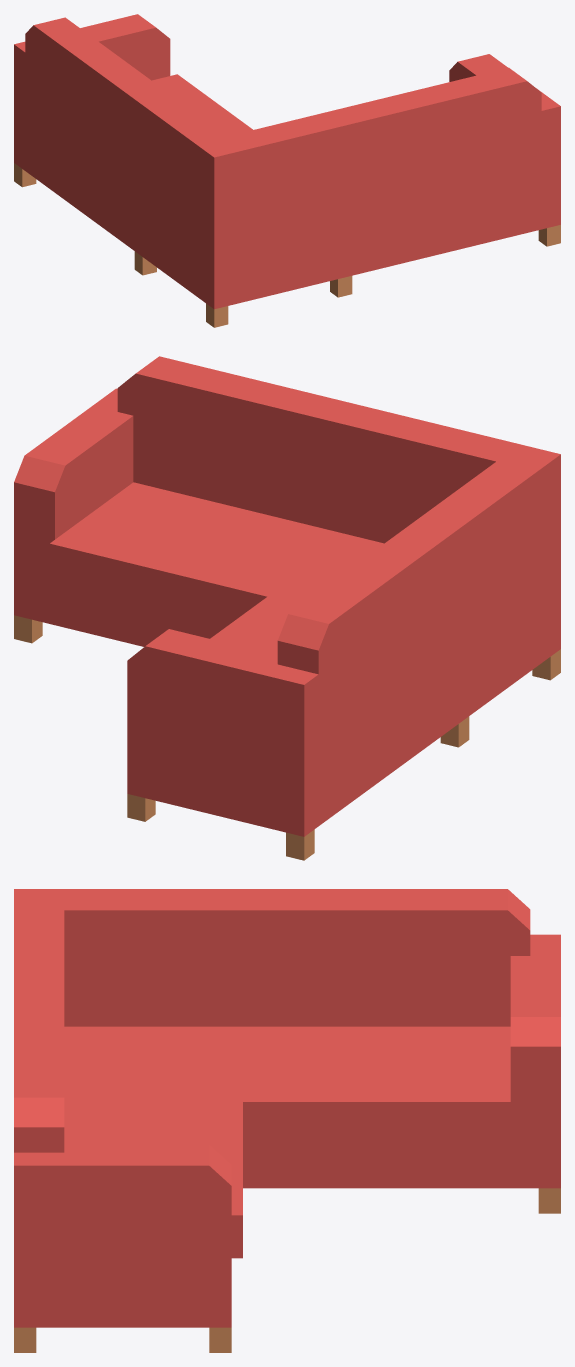
File: loungeSofaCorner.fbx
3 renders of one model, top to bottom at view 1: azimuth 30°, elevation 25°; view 2: azimuth 150°, elevation 25°; view 3: azimuth 270°, elevation 25°, orthographic. The views are drawn at different scales.
Visible parts, largest first — view 1: loungeSofaCorner; view 2: loungeSofaCorner; view 3: loungeSofaCorner.
Boxes of the visible parts, x1,y1,x2,y2 form: loungeSofaCorner: (14, 14, 560, 327); loungeSofaCorner: (14, 356, 560, 860); loungeSofaCorner: (14, 889, 560, 1352).
Bounding box in the file's own units: 9.8 × 4.6 × 9.8.
